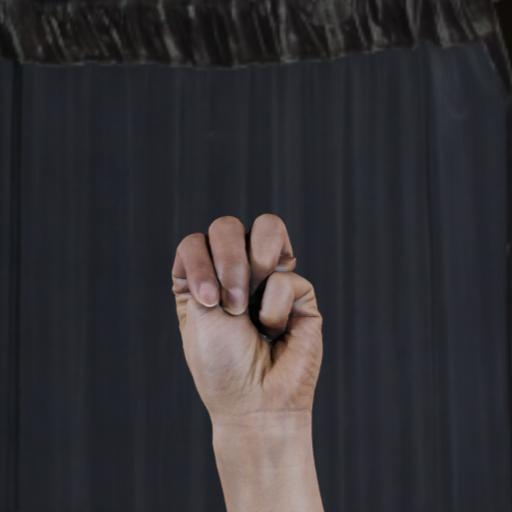M: (159, 196, 354, 444)
